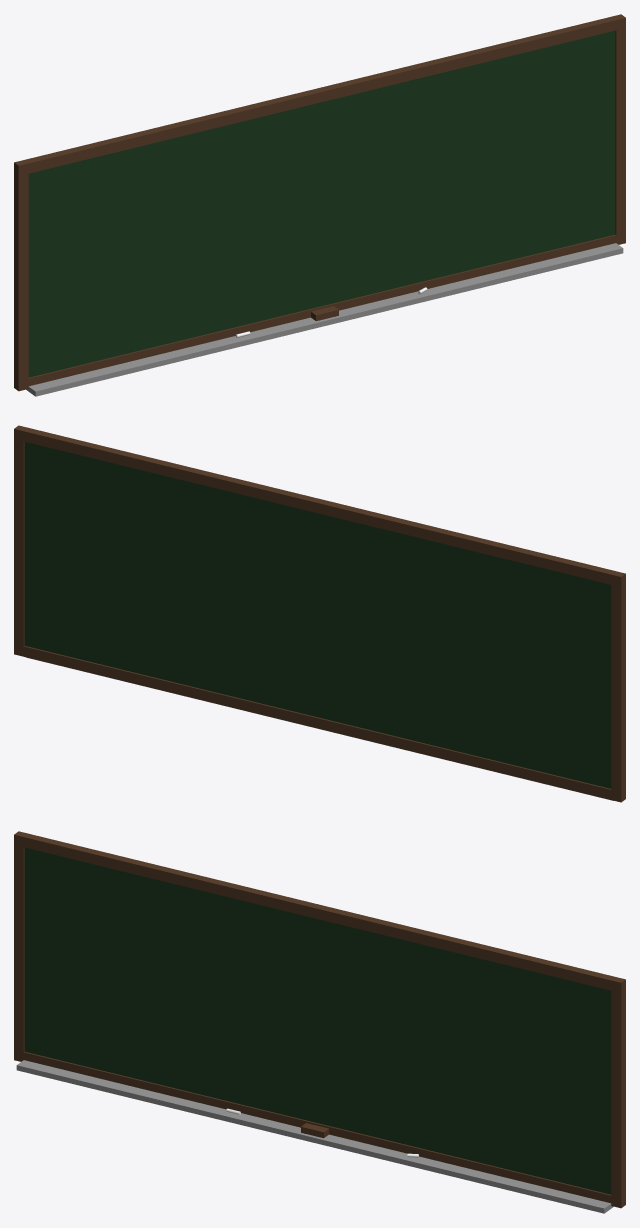
Rendered from CB_PROP_VN_Blackboard_A.glb.
3 views of the same model, one above another, from view 1: azimuth 30°, elevation 25°; view 2: azimuth 150°, elevation 25°; view 3: azimuth 330°, elevation 25° (orthographic).
Visible parts, largest first — view 1: CB_PROP_VN_Blackboard_A; view 2: CB_PROP_VN_Blackboard_A; view 3: CB_PROP_VN_Blackboard_A.
Boxes of the visible parts, bbox=[...] form: CB_PROP_VN_Blackboard_A: bbox=[14, 14, 625, 396]; CB_PROP_VN_Blackboard_A: bbox=[14, 425, 625, 802]; CB_PROP_VN_Blackboard_A: bbox=[14, 831, 625, 1213].
Size of the model in its own units: 3.72 by 1.34 by 0.125.
